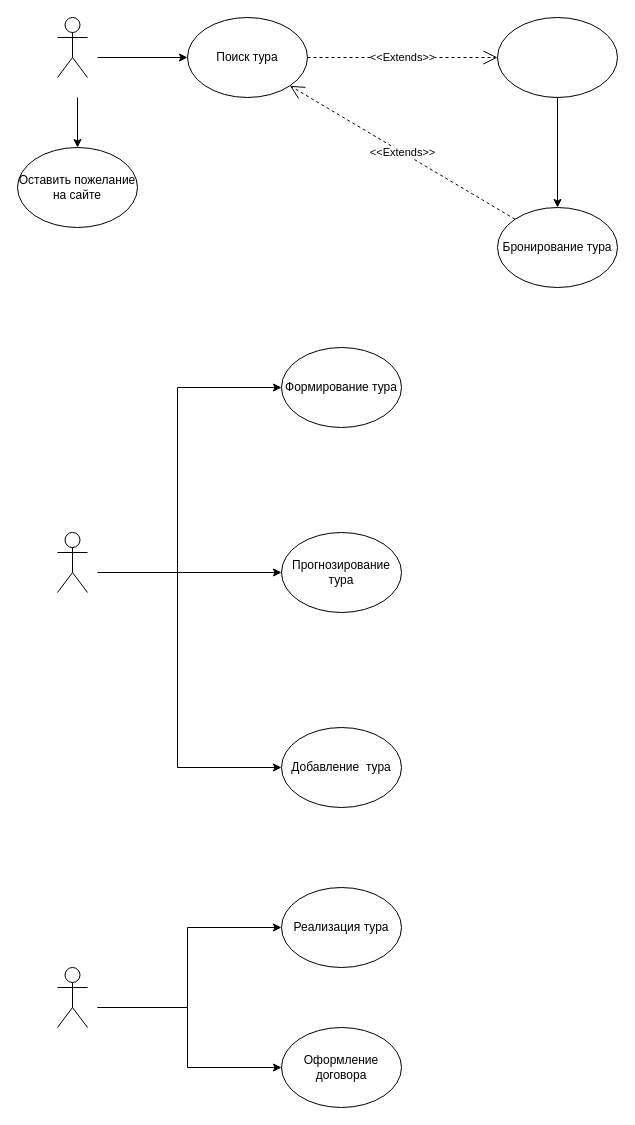
Image size: 635x1125. Some labels were removed from this diagram. The shapes that lost their labels are listed below. From the top down, each one's box as (x1, y1, x2, y2) in pixels, then its label:
(56, 16, 88, 78): Клиент
(496, 16, 618, 98): Просмотр информации о туре
(56, 532, 88, 592): Туроператор
(56, 966, 88, 1028): Турагент
